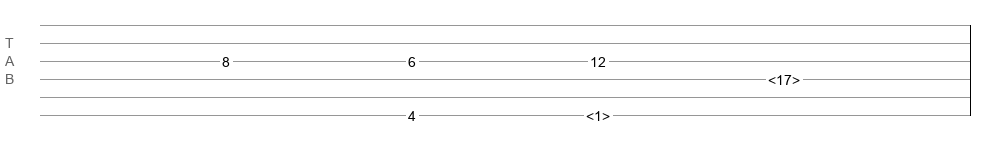12: (590, 54, 606, 64)
4: (408, 108, 416, 118)
6: (408, 54, 416, 64)
8: (222, 54, 230, 64)
harmonic: (768, 72, 800, 82), (586, 108, 610, 118)
